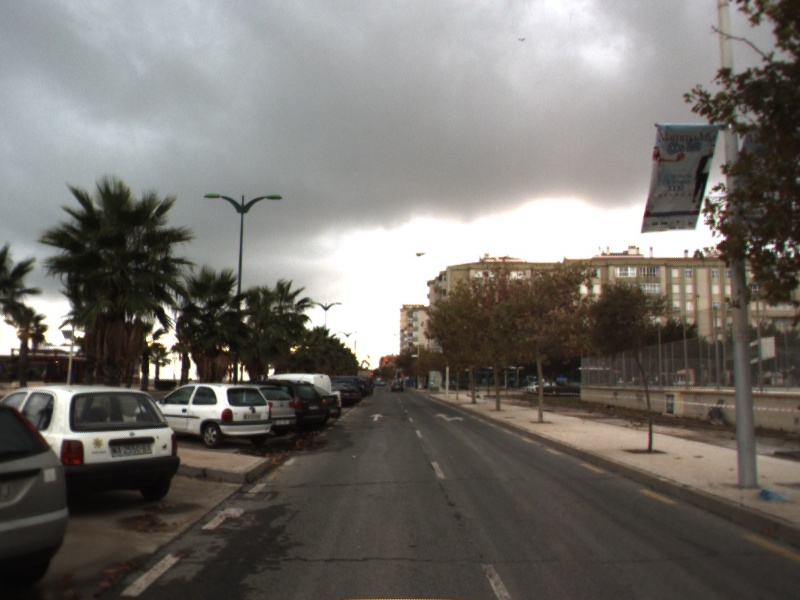STRAIGHT: (368, 412, 386, 423)
STRAIGHT_RIGHT: (433, 411, 465, 423)
